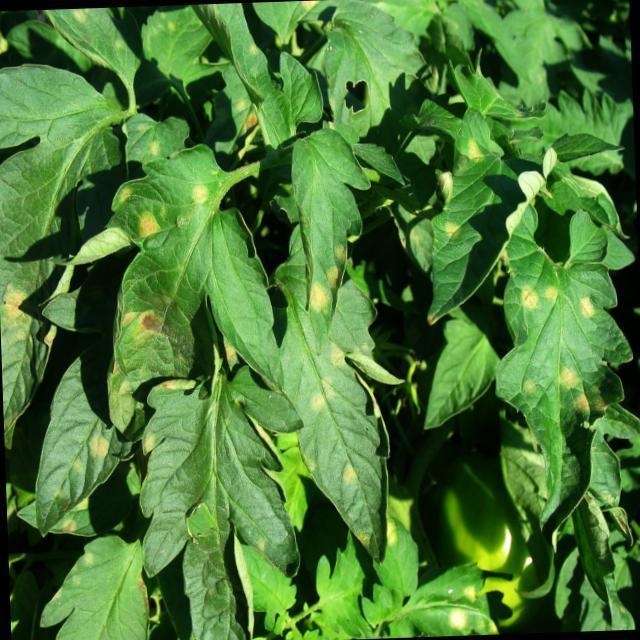Mosaic Virus: (41, 350, 141, 536), (507, 268, 608, 440), (308, 342, 372, 540), (117, 168, 220, 246), (432, 139, 493, 265), (300, 202, 353, 316), (0, 261, 54, 350), (54, 530, 108, 617)
